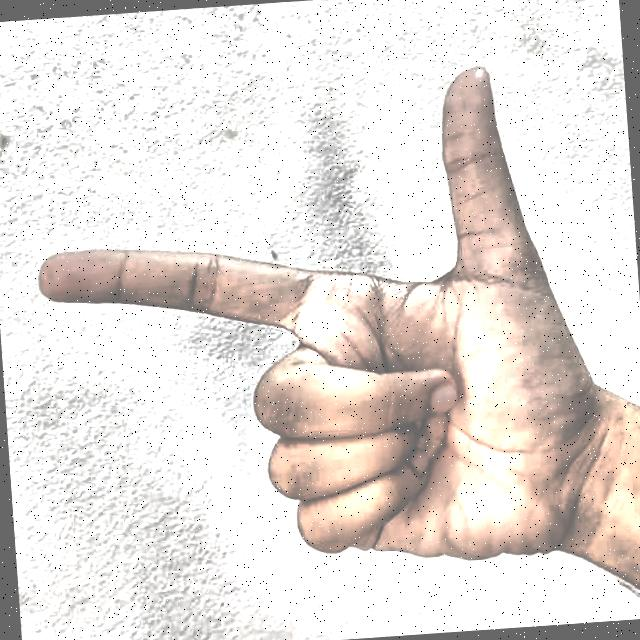Tha: (8, 43, 616, 633)
